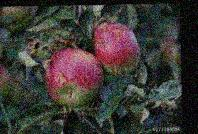rotten apple: (42, 47, 104, 108), (92, 19, 144, 74)
